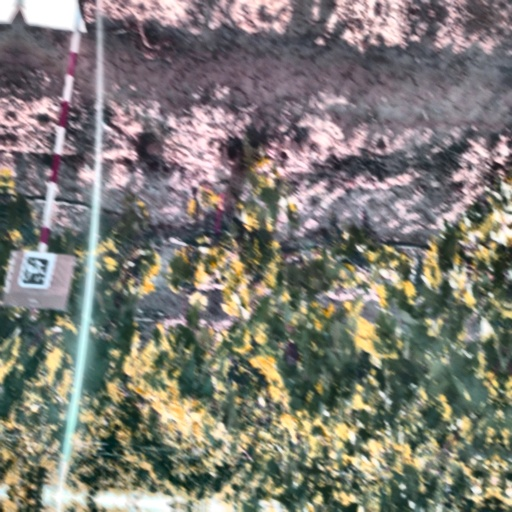QR: (24, 257, 46, 285)
